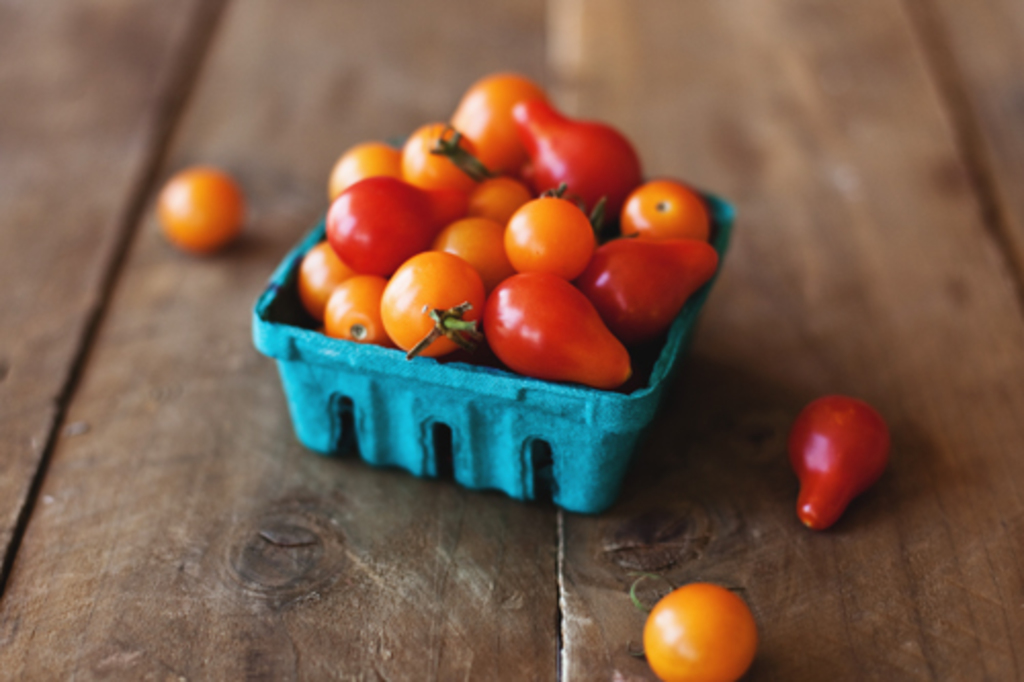Tomato: (299, 69, 718, 385), (786, 393, 890, 536), (477, 262, 604, 370), (645, 589, 761, 679), (159, 157, 243, 253)
